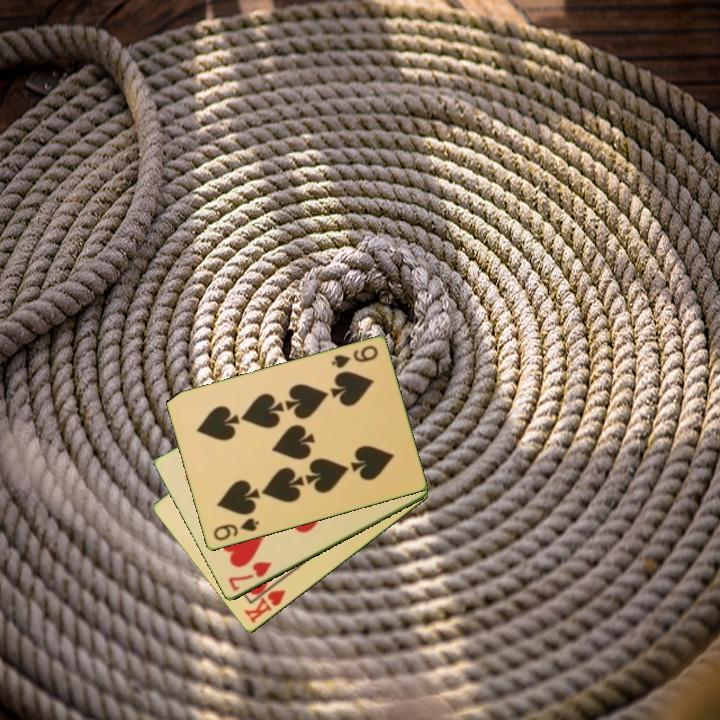7h: (224, 558, 275, 594)
9s: (328, 342, 381, 372), (210, 515, 262, 544)
Kh: (241, 577, 288, 626)
